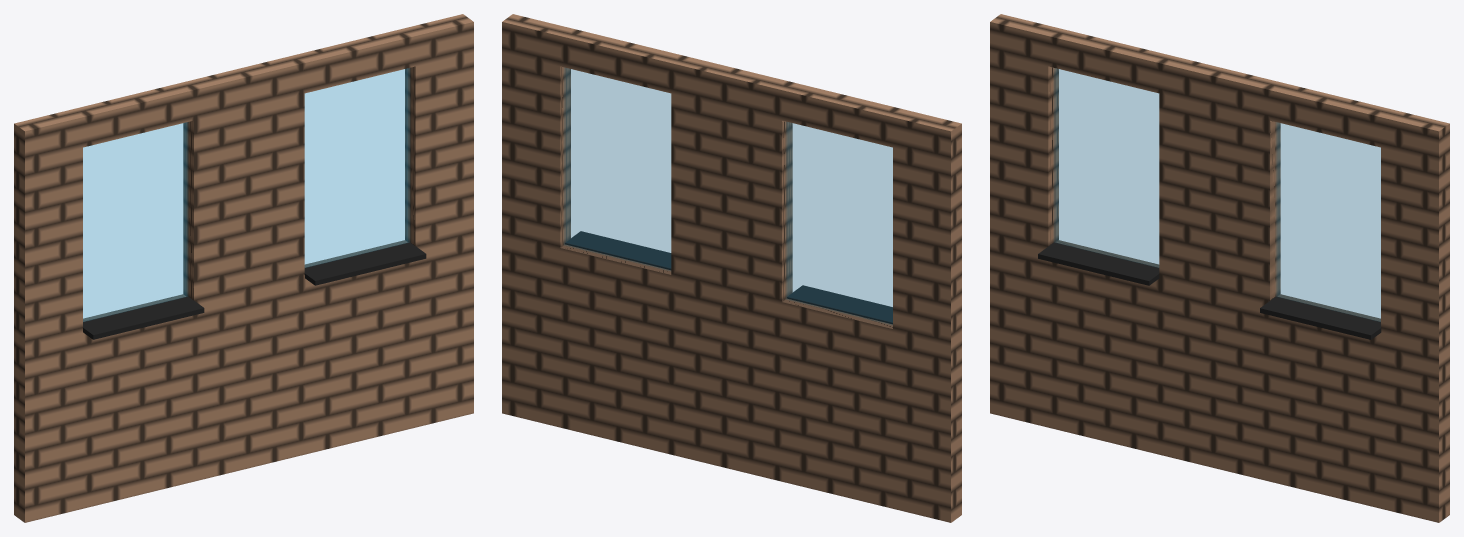
The model's file is SM_wall_brick_window_02.fbx.
The picture shows the model from 3 angles, left to right: view 1: azimuth 30°, elevation 25°; view 2: azimuth 150°, elevation 25°; view 3: azimuth 330°, elevation 25°; orthographic projection.
Parts seen in each view (by area): view 1: wall_brick_window_02; view 2: wall_brick_window_02; view 3: wall_brick_window_02.
Part boxes in pixels (box(x1,y1,x2,y2)): wall_brick_window_02: box(14, 14, 473, 522); wall_brick_window_02: box(502, 14, 961, 522); wall_brick_window_02: box(990, 14, 1449, 522).
Size of the model in its own units: 300 by 250 by 24.32.
Materials: 3 (1 with a texture image).
